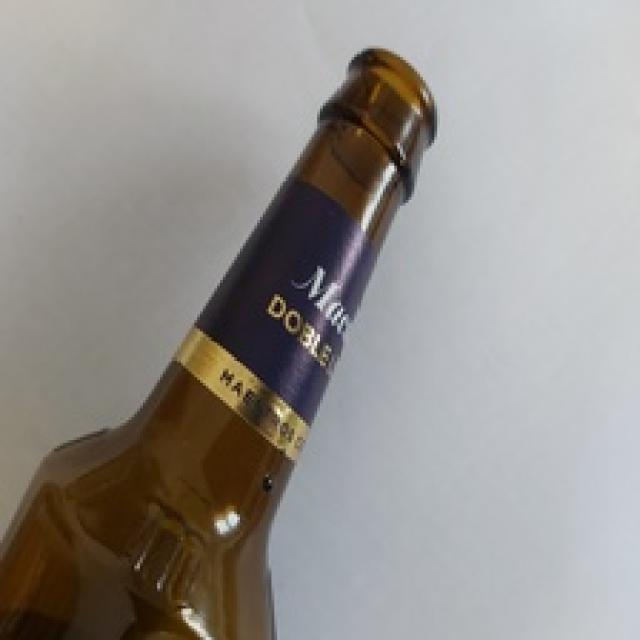Glass: (0, 48, 441, 640)
